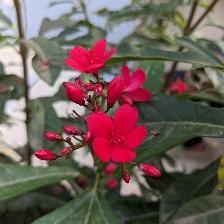jatropha: (88, 106, 144, 166), (65, 39, 118, 73), (119, 70, 150, 107)
